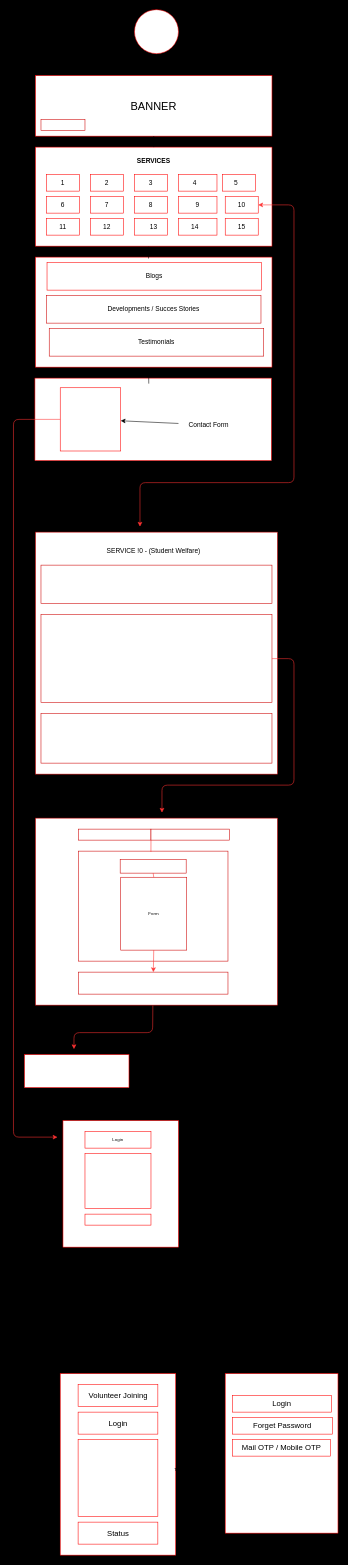
This 348x1565 diagram has some shape labels left out. Here are the shapes that lost their labels. From the top down, the centre of each, then its label:
the point at 156,31: Website
the point at 62,125: Donate Now
the point at 90,419: Enquiry Form
the point at 156,584: Live Acoount Balance
the point at 156,658: Donation Portal
the point at 156,738: Stories
the point at 114,834: Give Once
the point at 190,834: Monthly
the point at 153,866: Login (if not login)
the point at 153,983: Payment Methods
the point at 76,1071: INVOICE (To Donater - email)
the point at 117,1181: Form ( select authority to send enquiry )
the point at 117,1219: Submit
the point at 118,1478: Form (with category choosen)
